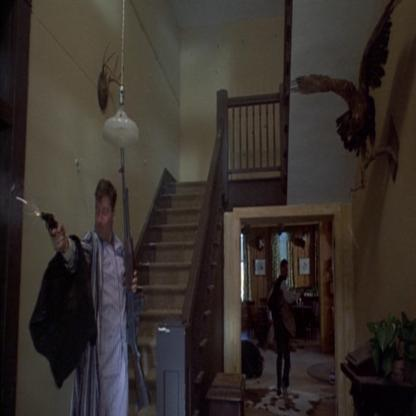gun: (35, 203, 62, 240)
